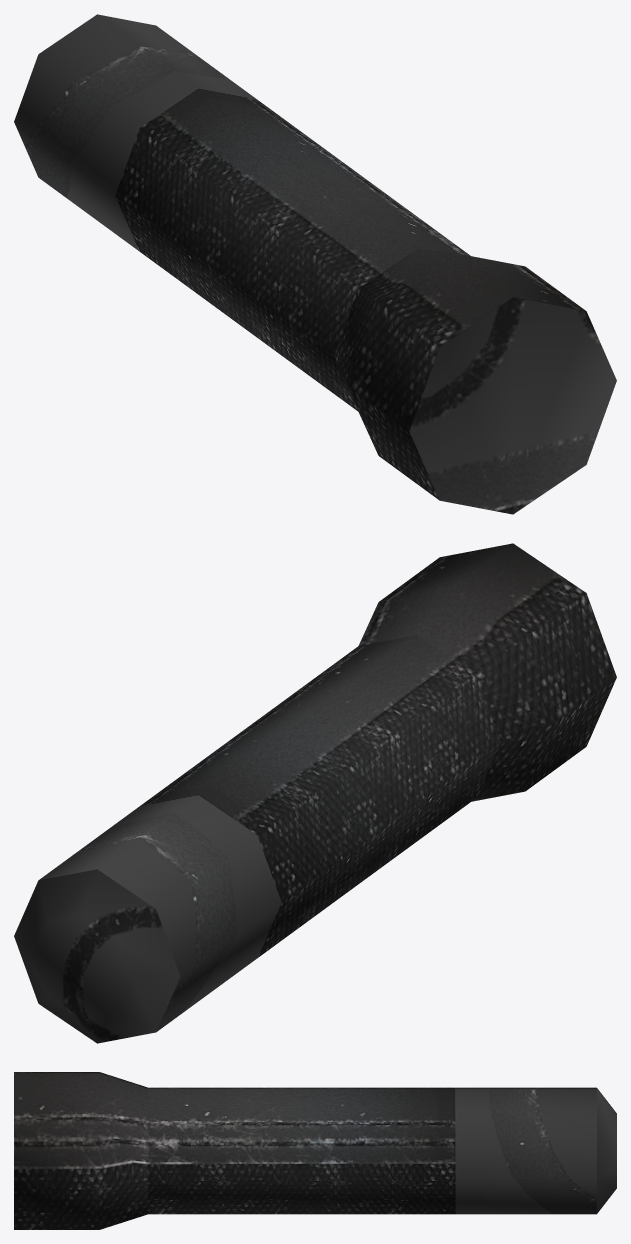
Rendered from Silencer_Improvised_wm.fbx.
3 renders of one model, top to bottom at view 1: azimuth 30°, elevation 25°; view 2: azimuth 150°, elevation 25°; view 3: azimuth 270°, elevation 25°, orthographic. The views are drawn at different scales.
Visible parts, largest first — view 1: Silencer_Improvised; view 2: Silencer_Improvised; view 3: Silencer_Improvised.
Part boxes in pixels (left/top/right/bottom): Silencer_Improvised: left=14, top=14, right=616, bottom=514; Silencer_Improvised: left=14, top=543, right=616, bottom=1043; Silencer_Improvised: left=14, top=1072, right=616, bottom=1229.
Bounding box in the file's own units: 0.0435 × 0.1563 × 0.0435.
